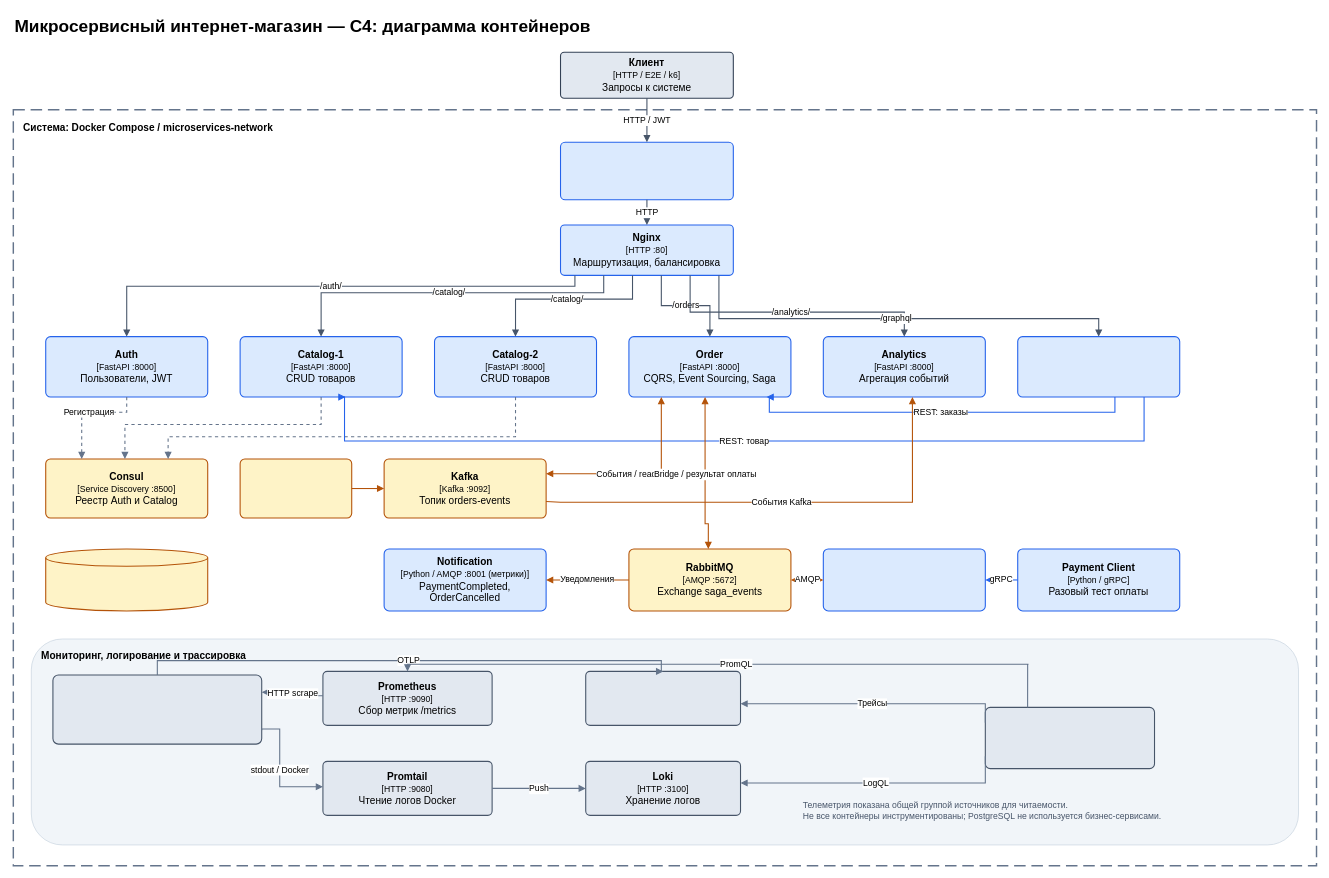
Image size: 1329x878. Some labels were removed from this diagram. Here are the shapes that lost their labels. From the top down, the centre of each, then its label:
(647,170): API Gateway [Express :3000 / :8081] JWT, RBAC-заголовки, Rate Limiting
(1098,366): GraphQL [FastAPI :8000] Агрегация заказов и товаров
(295,488): Kafka UI [Web :8080] Просмотр событий
(126,579): PostgreSQL [PostgreSQL 16 :5432] Том postgres_data; без клиентов
(904,579): Payment [Python / gRPC :50051] Имитация оплаты; метрики :8001
(157,709): Источники телеметрии [Приложения / Docker] Инструментированные сервисы; stdout
(663,698): Jaeger [OTLP :4317 / :4318] Трейсы, UI :16686
(1069,738): Grafana [HTTP :3000] Дашборды и Explore
